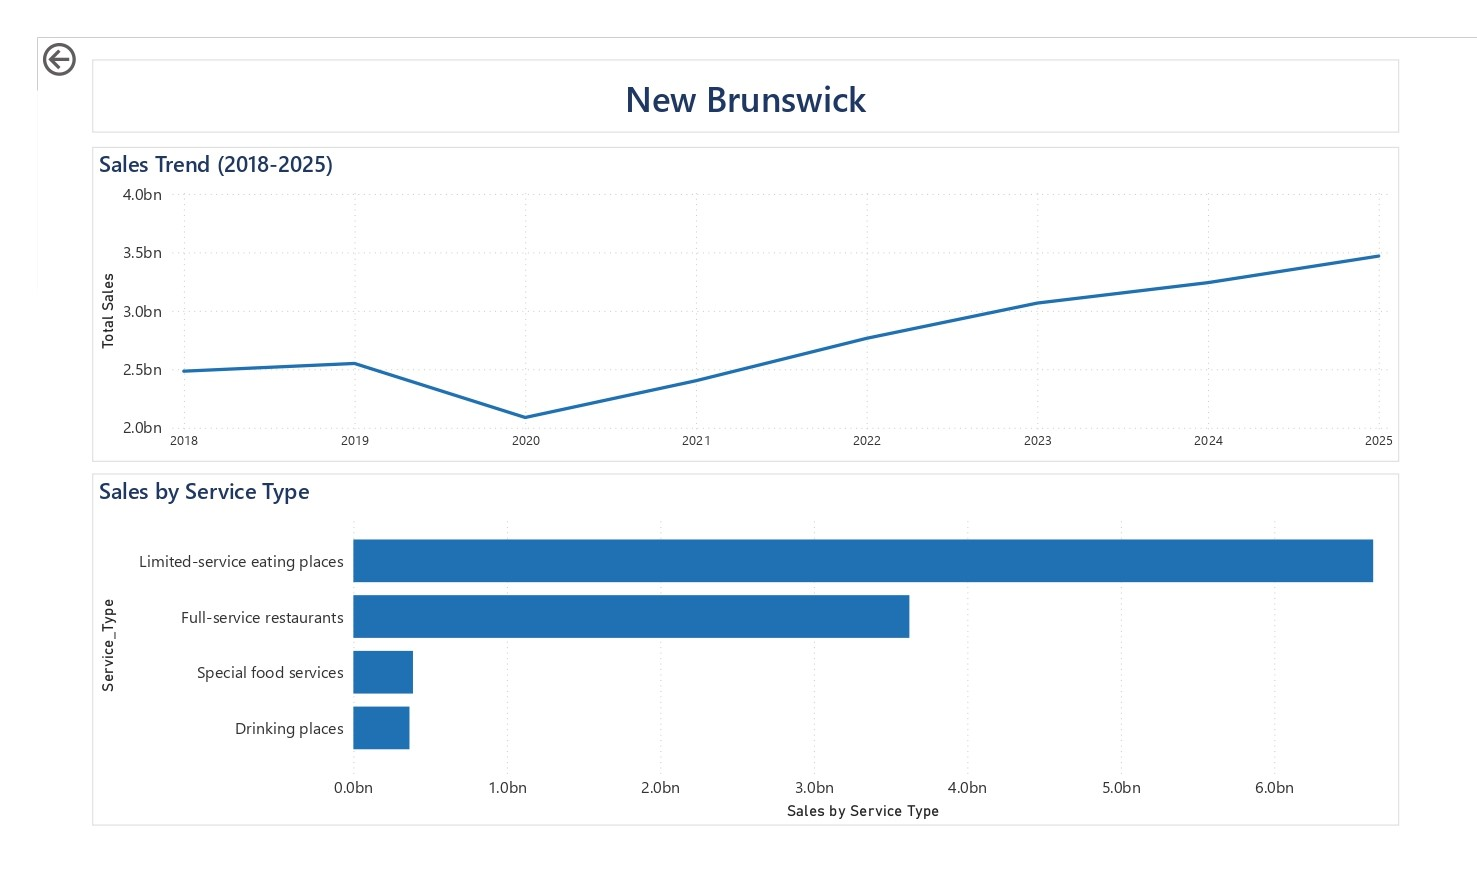

Layout of this report page (visuals, bound fields, positions):
{"tool":"powerbi","page":{"name":"Province Detail","canvas":[1280,720],"ordinal":1},"visuals":[{"type":"actionButton","box":[0,0,100,40],"z":0},{"type":"cardVisual","fields":{"Data":["Min(FoodService_Adjusted.Province)"]},"box":[49.4,20.6,1195.2,67.2],"z":1000},{"type":"lineChart","title":"Sales Trend (2018-2025)","fields":{"Y":["Measures_Used.Total Sales"],"Category":["FoodService_Adjusted.Year"]},"box":[49.4,100.2,1195.2,288.2],"z":2000},{"type":"clusteredBarChart","title":"Sales by Service Type ","fields":{"Category":["FoodService_Adjusted.Service_Type"],"Y":["Measures_Used.Sales by Service Type"]},"box":[49.4,397.9,1195.2,322.5],"z":3000}]}

Visuals, with their boxes on the page's 1280x720 design canvas (x1, y1, x2, y2). These are canvas units, not pixel positions in the 1477x892 screenshot, which may show the page scaled, cropped or inside an application window:
actionButton: {"left": 0, "top": 0, "right": 100, "bottom": 40}
cardVisual - Min(FoodService_Adjusted.Province): {"left": 49, "top": 21, "right": 1245, "bottom": 88}
"Sales Trend (2018-2025)" lineChart: {"left": 49, "top": 100, "right": 1245, "bottom": 388}
"Sales by Service Type " clusteredBarChart: {"left": 49, "top": 398, "right": 1245, "bottom": 720}
